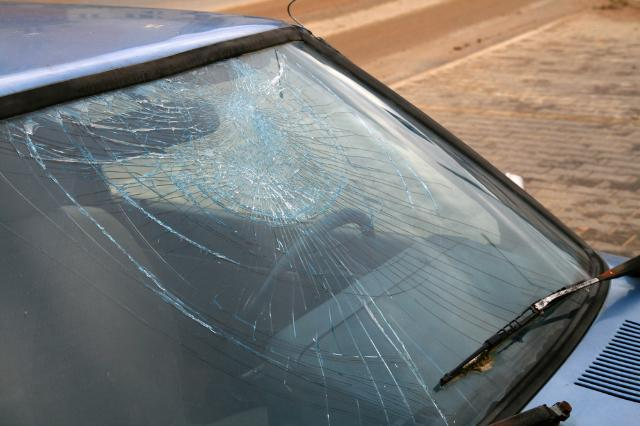glass shatter: (0, 40, 589, 426)
